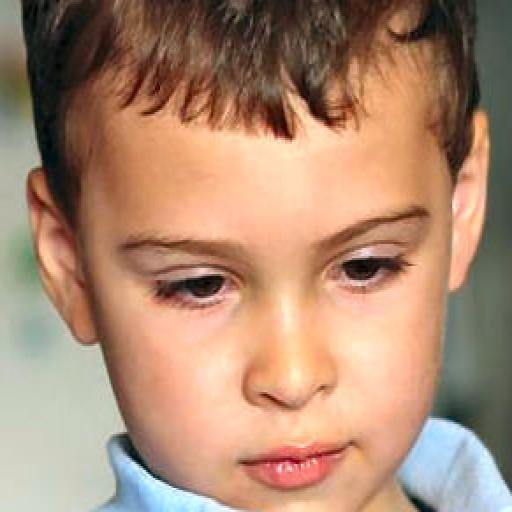Autism: (6, 12, 510, 512)
